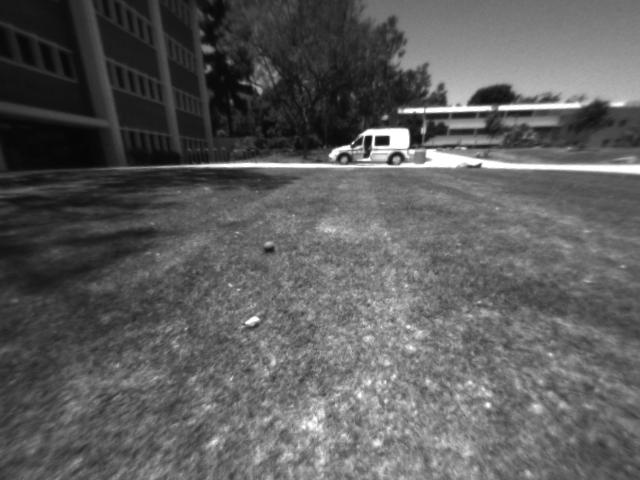dogtoy: (255, 227, 291, 264)
